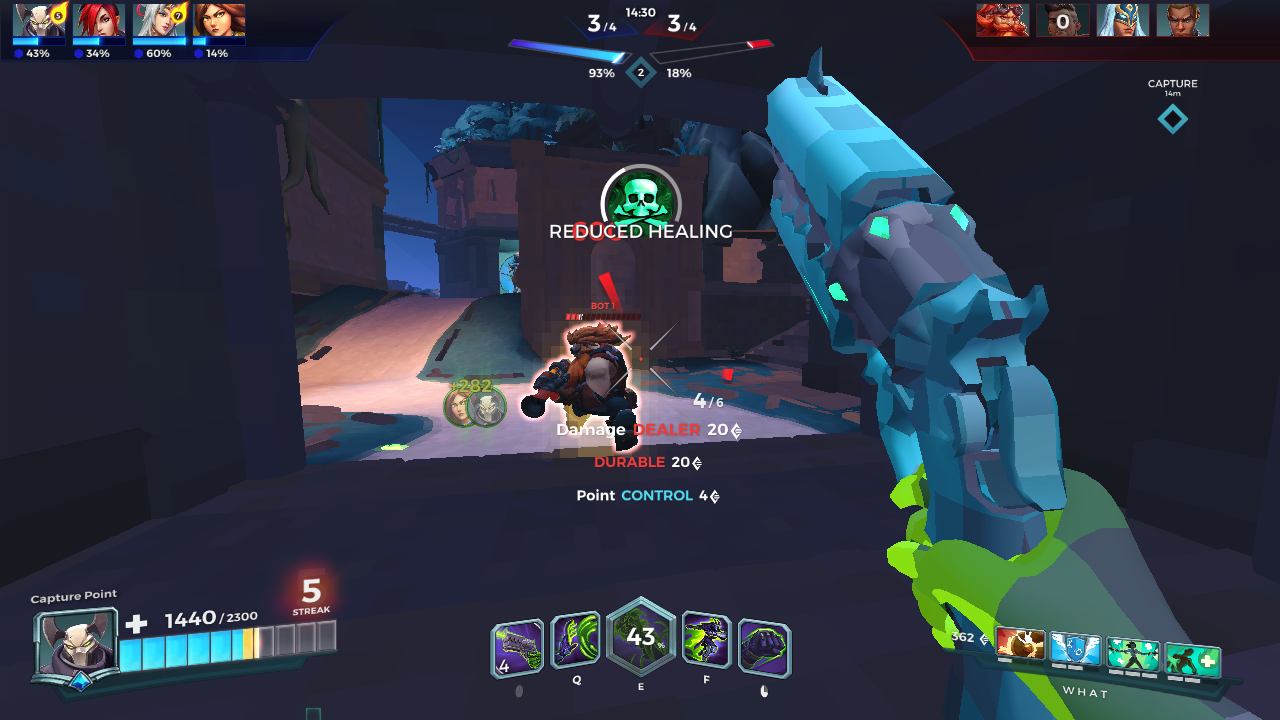model: (530, 316, 646, 453)
